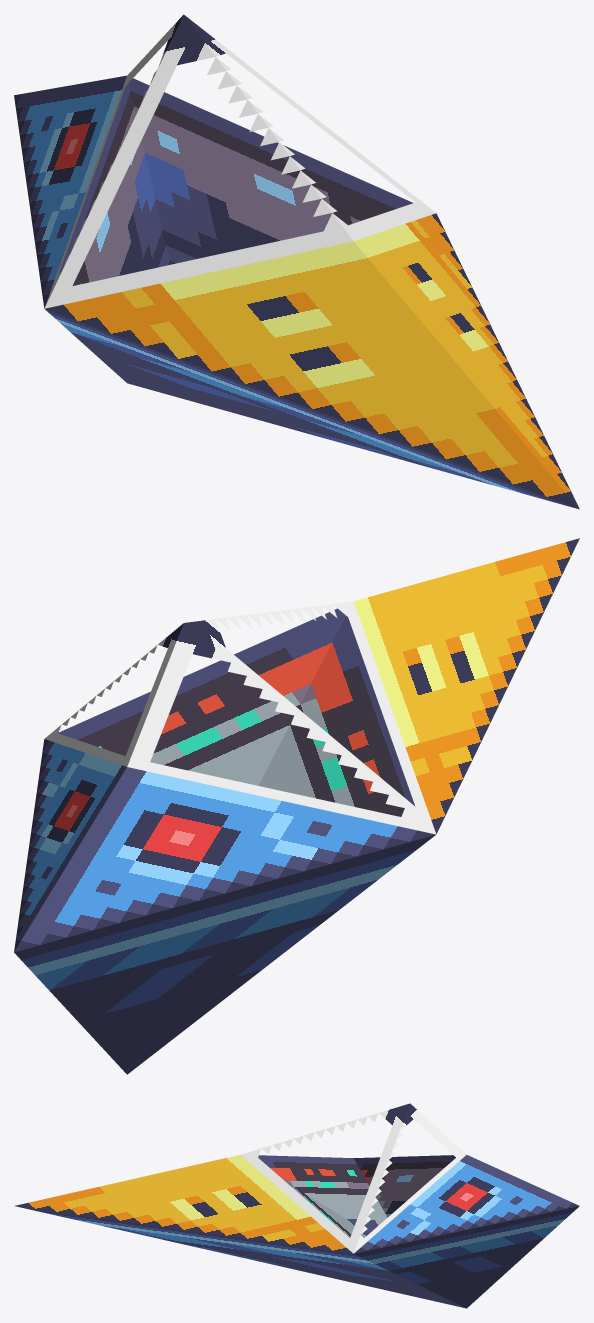
File: BoidCraft_Chassis.gltf
3 views of the same model, one above another, from view 1: azimuth 30°, elevation 25°; view 2: azimuth 150°, elevation 25°; view 3: azimuth 270°, elevation 25° (orthographic). The views are drawn at different scales.
Bounding box in the file's own units: 2 × 2 × 5.
Materials: 1 (1 with a texture image).
